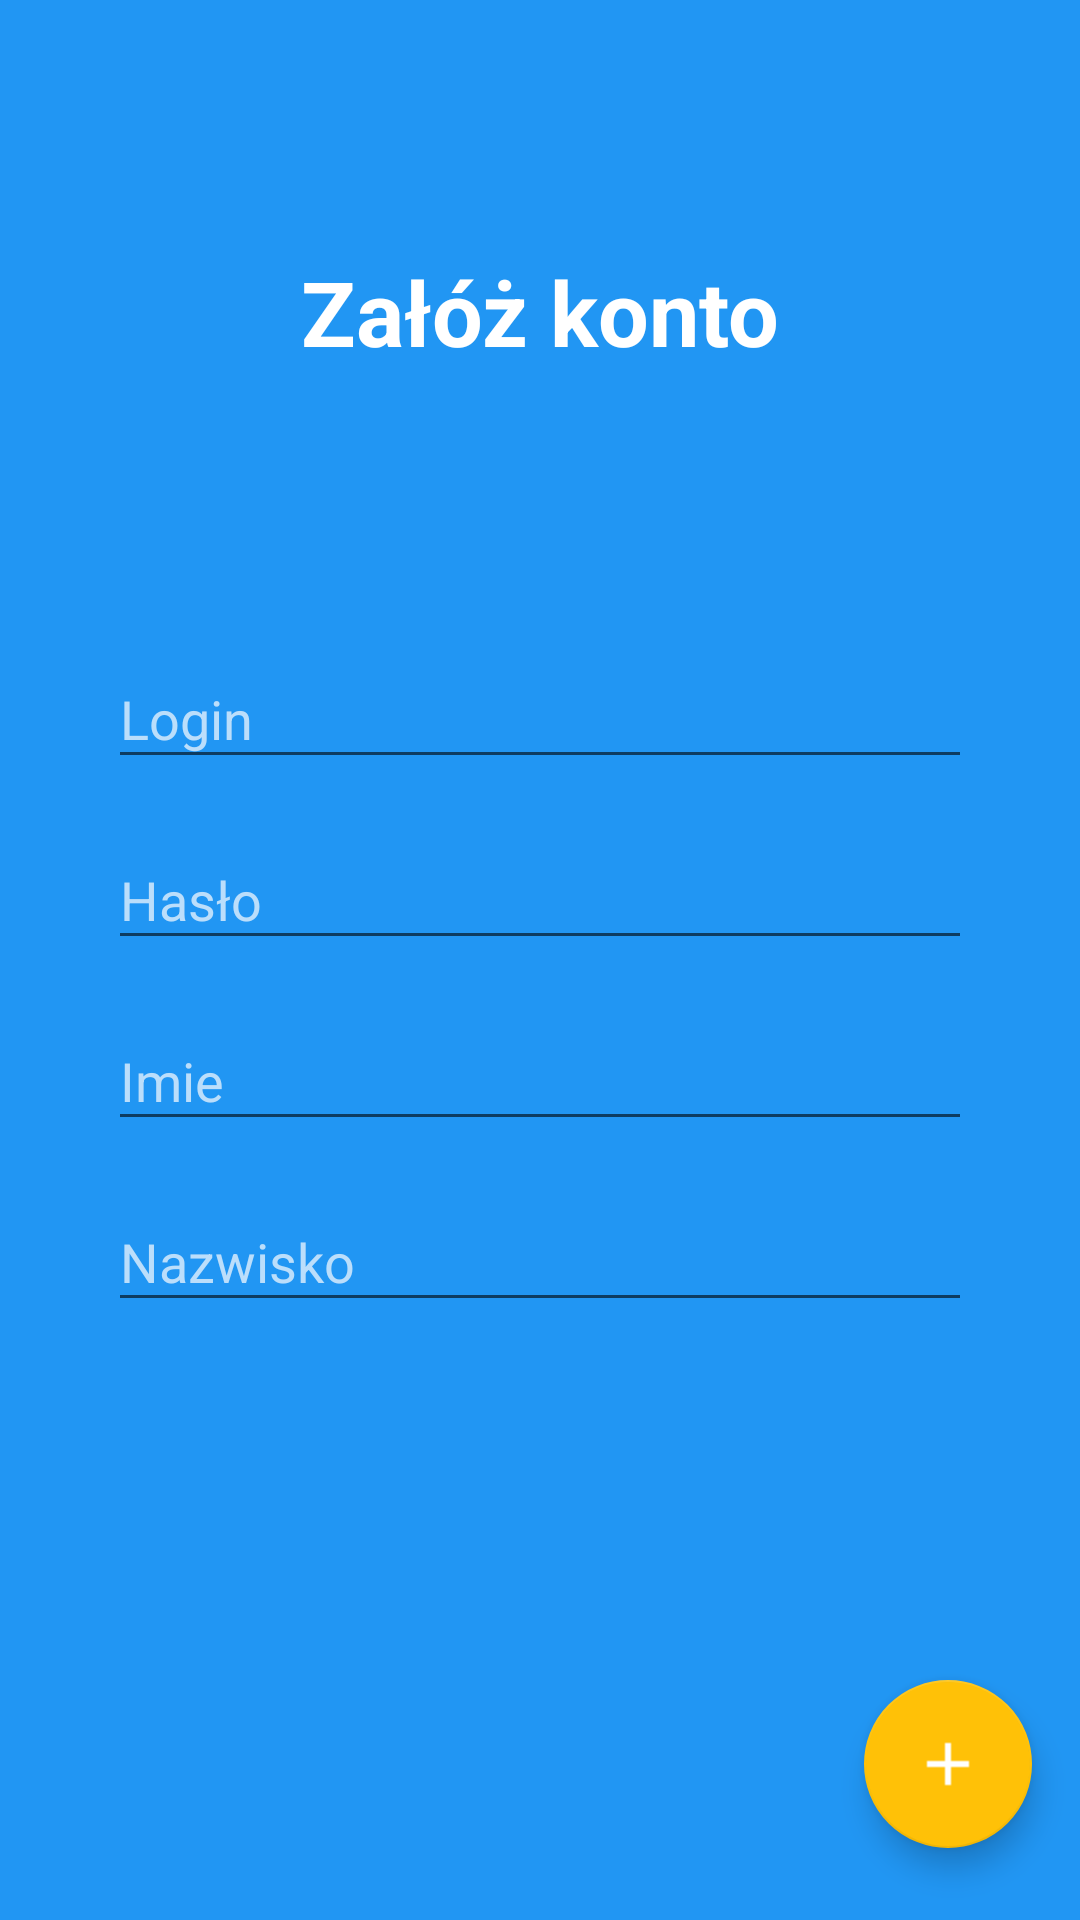

Named icons in this screenshot (1080×1920) and their centers, [x,y]:
add: [948,1764]
